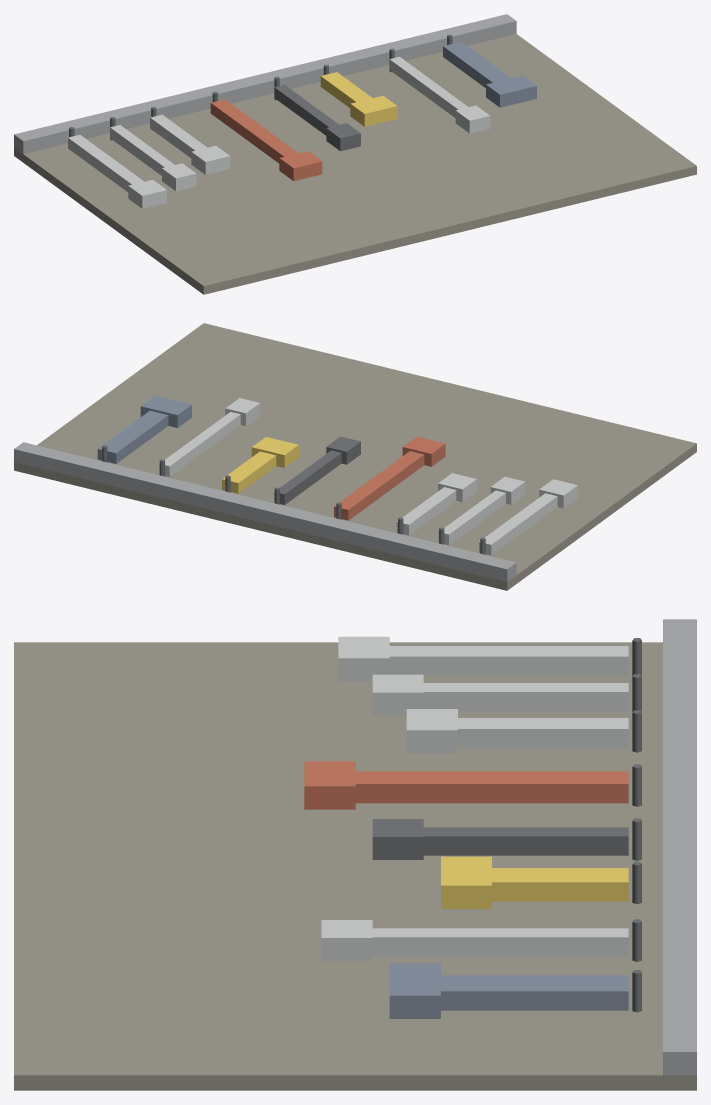
Rendered from toolRack_steel.glb.
The picture shows the model from 3 angles, top to bottom: view 1: azimuth 30°, elevation 25°; view 2: azimuth 150°, elevation 25°; view 3: azimuth 270°, elevation 25°; orthographic projection. The views are drawn at different scales.
Visible parts, largest first — view 1: toolRack_steel; view 2: toolRack_steel; view 3: toolRack_steel.
Boxes of the visible parts, box(x1,y1,x2,y2) form: toolRack_steel: box(14, 14, 696, 294); toolRack_steel: box(14, 323, 696, 590); toolRack_steel: box(14, 619, 696, 1090).
Size of the model in its own units: 1.2 by 0.07 by 0.8.
